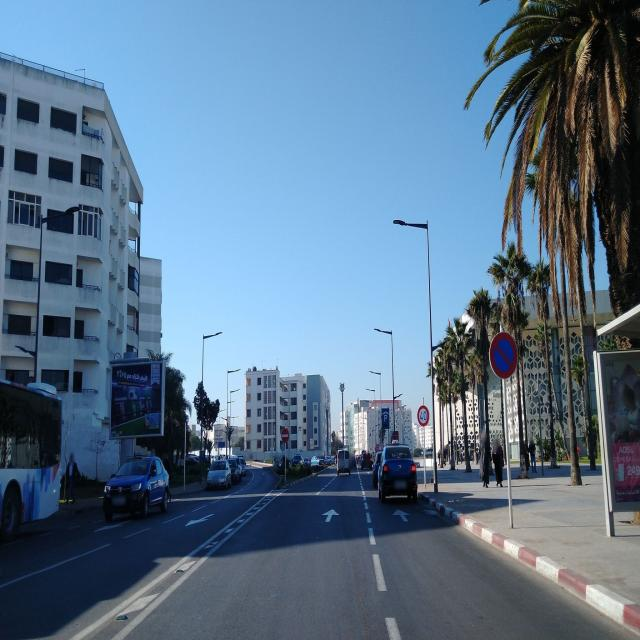forb_stopping: (489, 331, 518, 380)
